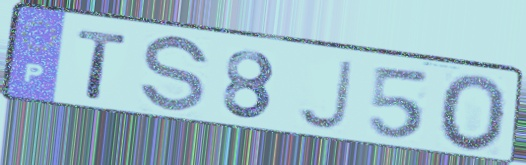5: (365, 66, 433, 141)
8: (221, 48, 278, 122)
J: (293, 58, 357, 133)
O: (438, 72, 511, 155)
S: (136, 34, 213, 117)
T: (75, 26, 131, 103)
